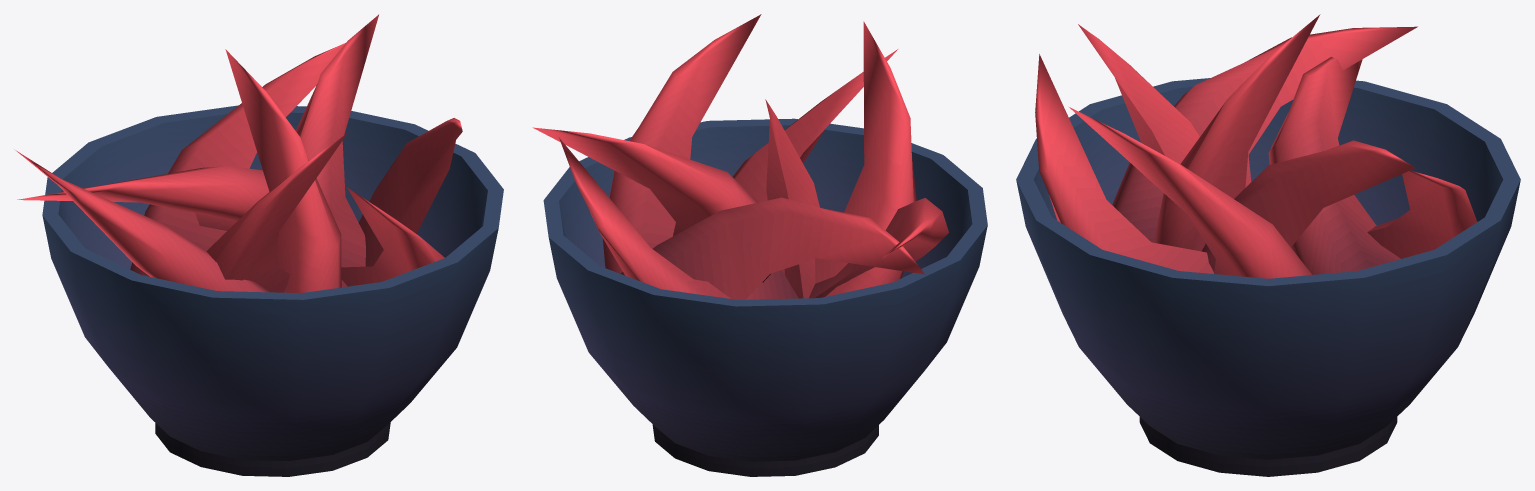
File: Rose_Thorn_adjusted.fbx
3 views of the same model, side by side, from view 1: azimuth 30°, elevation 25°; view 2: azimuth 150°, elevation 25°; view 3: azimuth 270°, elevation 25° (orthographic). The views are drawn at different scales.
Visible parts, largest first — view 1: Rose_Thorn_adjusted; view 2: Rose_Thorn_adjusted; view 3: Rose_Thorn_adjusted.
Boxes of the visible parts, x1,y1,x2,y2 form: Rose_Thorn_adjusted: (14, 14, 503, 476); Rose_Thorn_adjusted: (532, 14, 987, 476); Rose_Thorn_adjusted: (1016, 14, 1520, 476).
Size of the model in its own units: 5.46 by 4.62 by 5.33.
